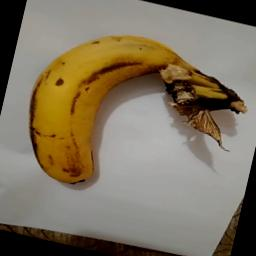Banana Unripe: (9, 12, 256, 221)
